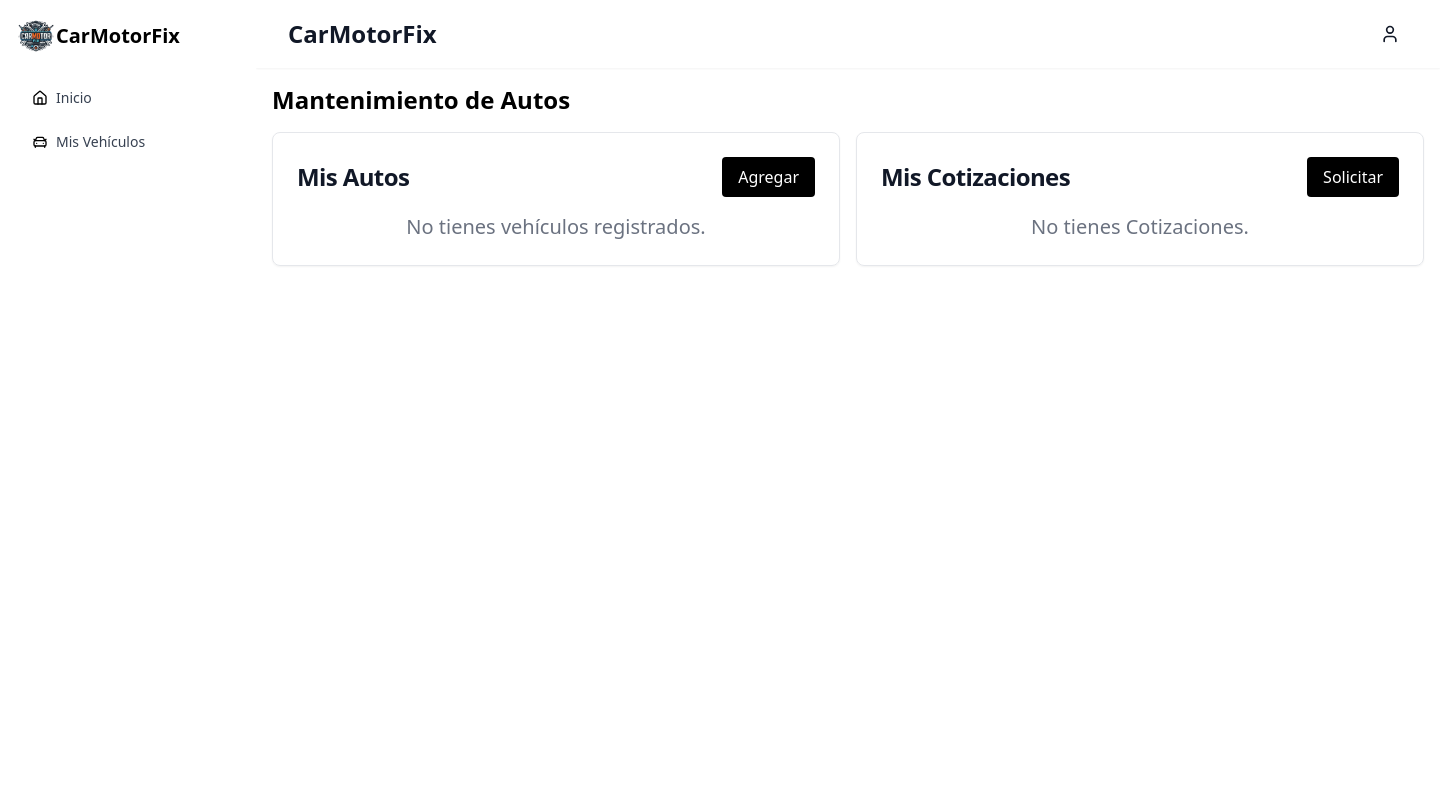
Cotizaciones Section › Generar una solicitud en "Mis Cotizaciones"
This screenshot has width=1440, height=810.
What coordinates should you click on to do the following:
click the button "Solicitar"
I would click on:
 (1353, 177)
Its box is left=1307, top=157, right=1399, bottom=197.
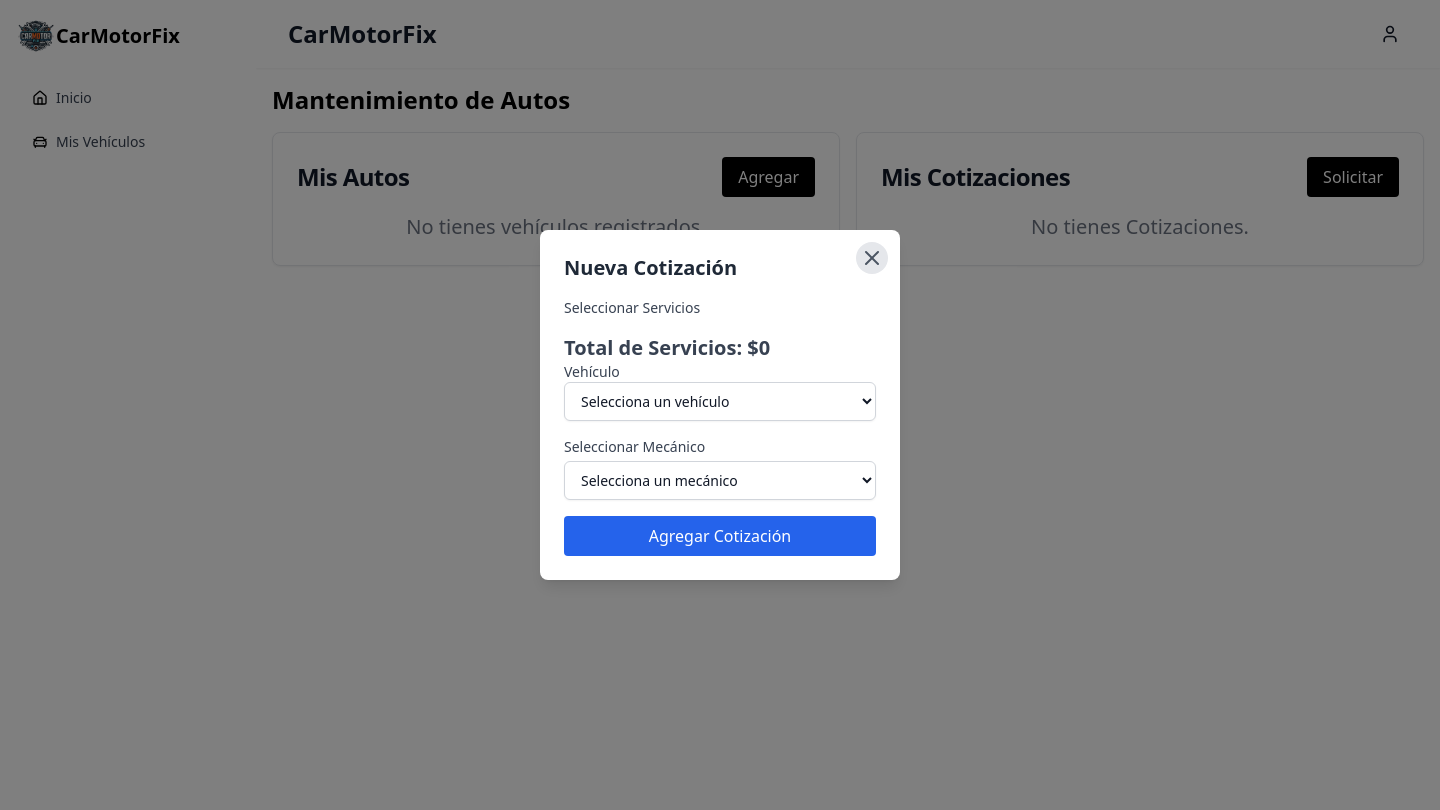
Result: the heading "Nueva Cotización" is shown at left=564, top=254, right=737, bottom=281
